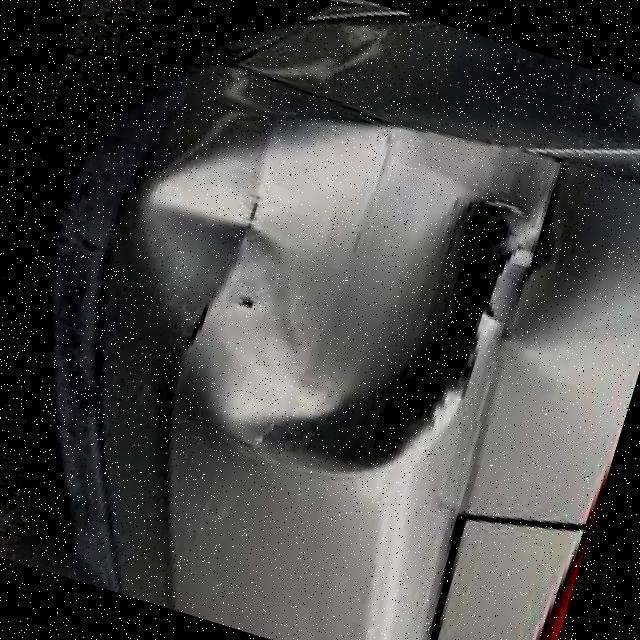Dent: (76, 57, 554, 510)
